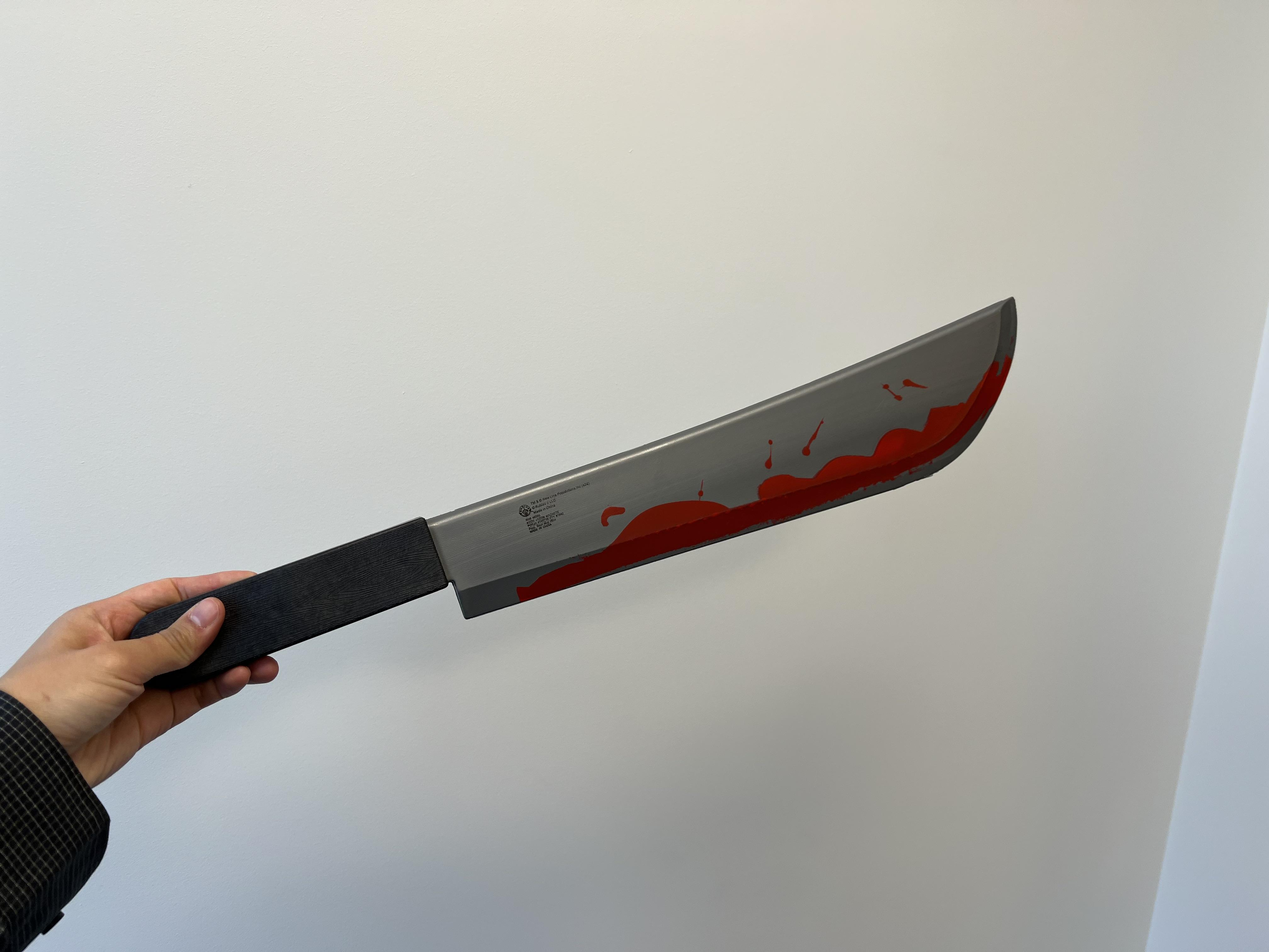Knife: (232, 296, 1022, 661), (0, 568, 278, 952), (16, 566, 278, 777)
